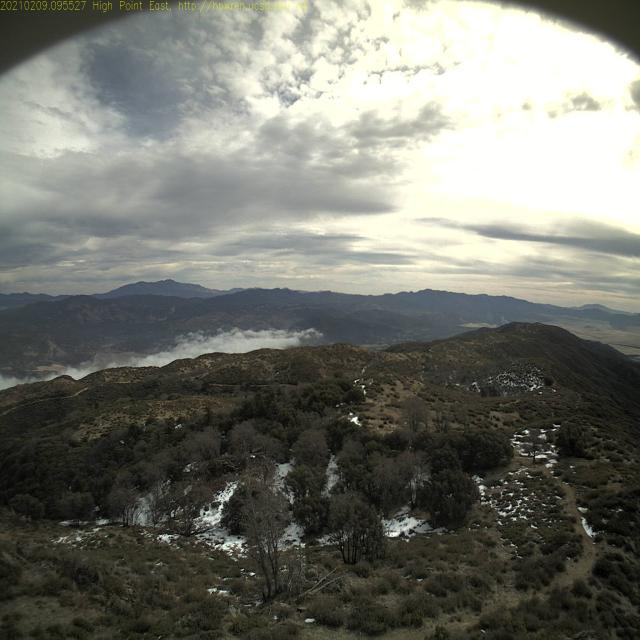smoke: (485, 312, 511, 327)
